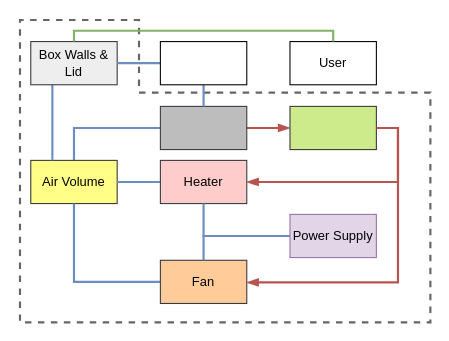
The diagram is 449 pixels wide and 341 high, and some of its shapes have lost their labels. The shapes that lost their labels are listed below. From the top down, each one's box as (x1, y1, x2, y2) in pixels, then its label:
(159, 40, 247, 85): Room Air
(159, 105, 247, 150): Temperature Sensors
(289, 105, 376, 150): Controller
